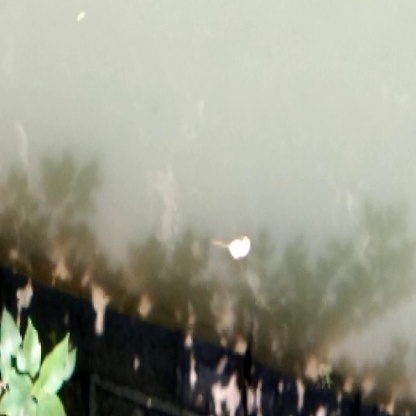grass: (6, 307, 73, 416)
